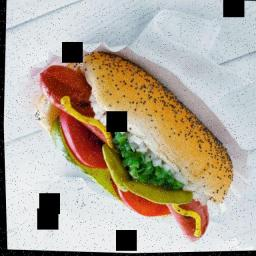hotdog: (31, 45, 241, 254)
